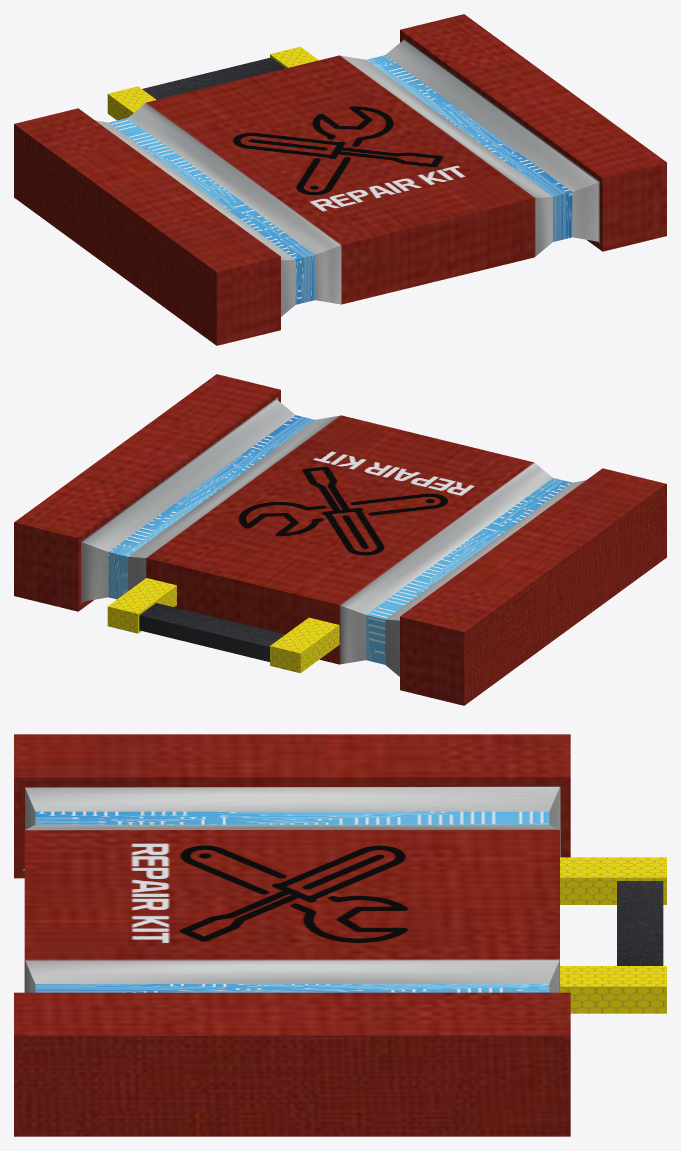
Rendered from Medkit.fbx.
3 renders of one model, top to bottom at view 1: azimuth 30°, elevation 25°; view 2: azimuth 150°, elevation 25°; view 3: azimuth 270°, elevation 25°, orthographic. The views are drawn at different scales.
Parts seen in each view (by area): view 1: Medkit; view 2: Medkit; view 3: Medkit.
Part boxes in pixels (<box>): Medkit: <box>14,14,666,345</box>; Medkit: <box>14,374,666,705</box>; Medkit: <box>14,734,666,1136</box>.
Size of the model in its own units: 200 by 31.22 by 183.
Materials: 1 (1 with a texture image).
